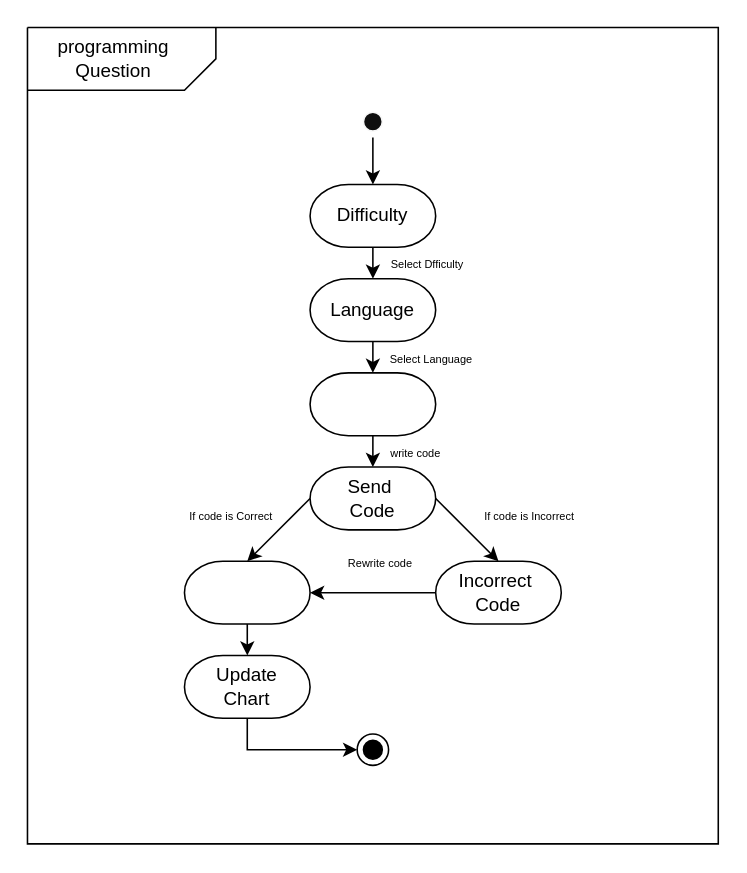
This 747x873 diagram has some shape labels left out. The centre of each missing label's shape, as x and y in pixels:
"Correct Code" belongs at point 246,592.
"Perform Code" belongs at point 372,403.
